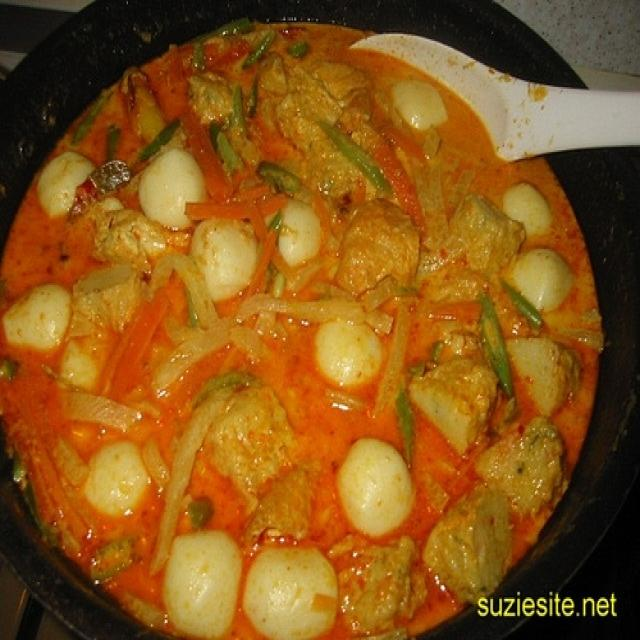面条主食: (8, 16, 612, 626)
